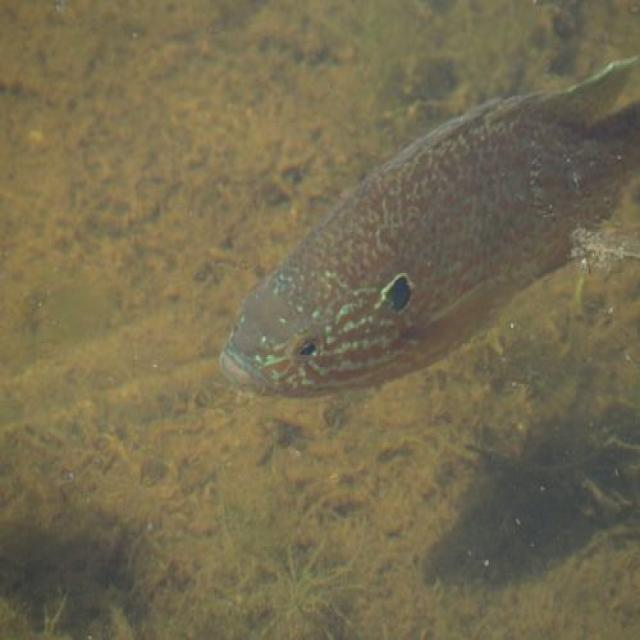Gunes Levregi: (217, 48, 640, 408)
